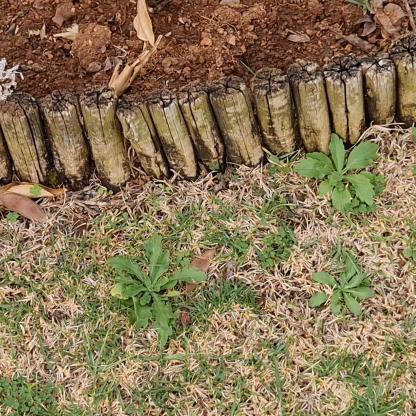Weeds: (106, 233, 208, 347), (294, 132, 381, 215), (307, 253, 375, 317)
